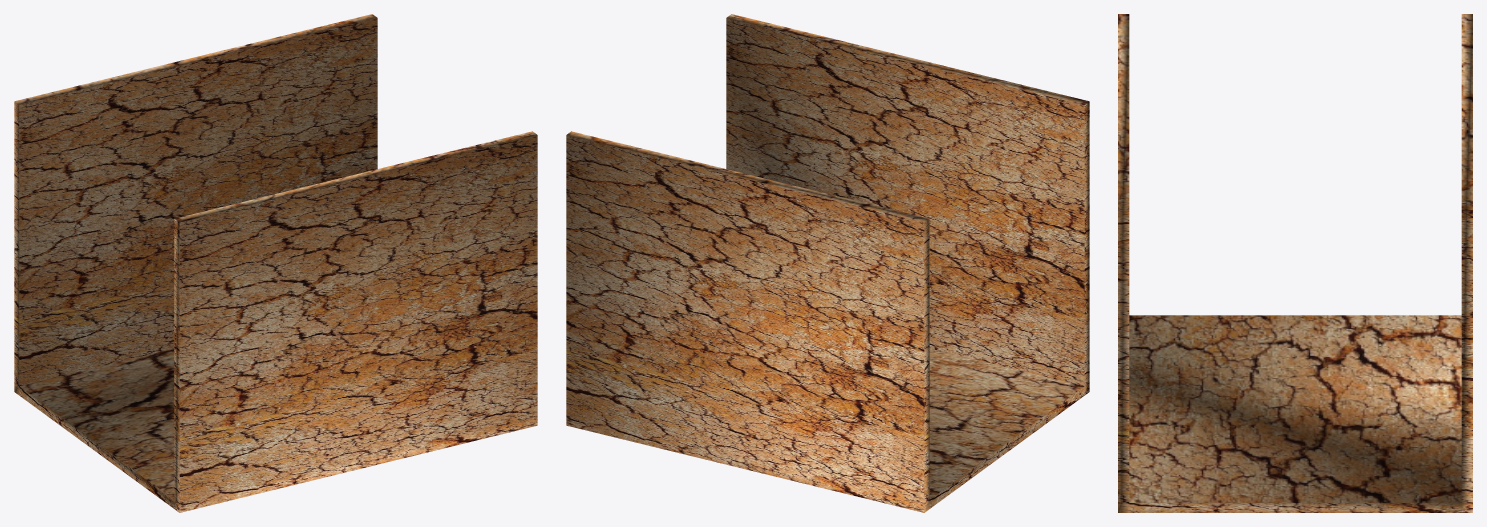
The model's file is Pasillo8.obj.
3 views of the same model, side by side, from view 1: azimuth 30°, elevation 25°; view 2: azimuth 150°, elevation 25°; view 3: azimuth 270°, elevation 25° (orthographic). The views are drawn at different scales.
Parts seen in each view (by area): view 1: Pasillo035; view 2: Pasillo035; view 3: Pasillo035.
Part boxes in pixels (x1,y1,x2,y2): Pasillo035: (14, 14, 537, 512); Pasillo035: (566, 14, 1089, 512); Pasillo035: (1118, 14, 1472, 512).
Bounding box in the file's own units: 157 × 122 × 126.
